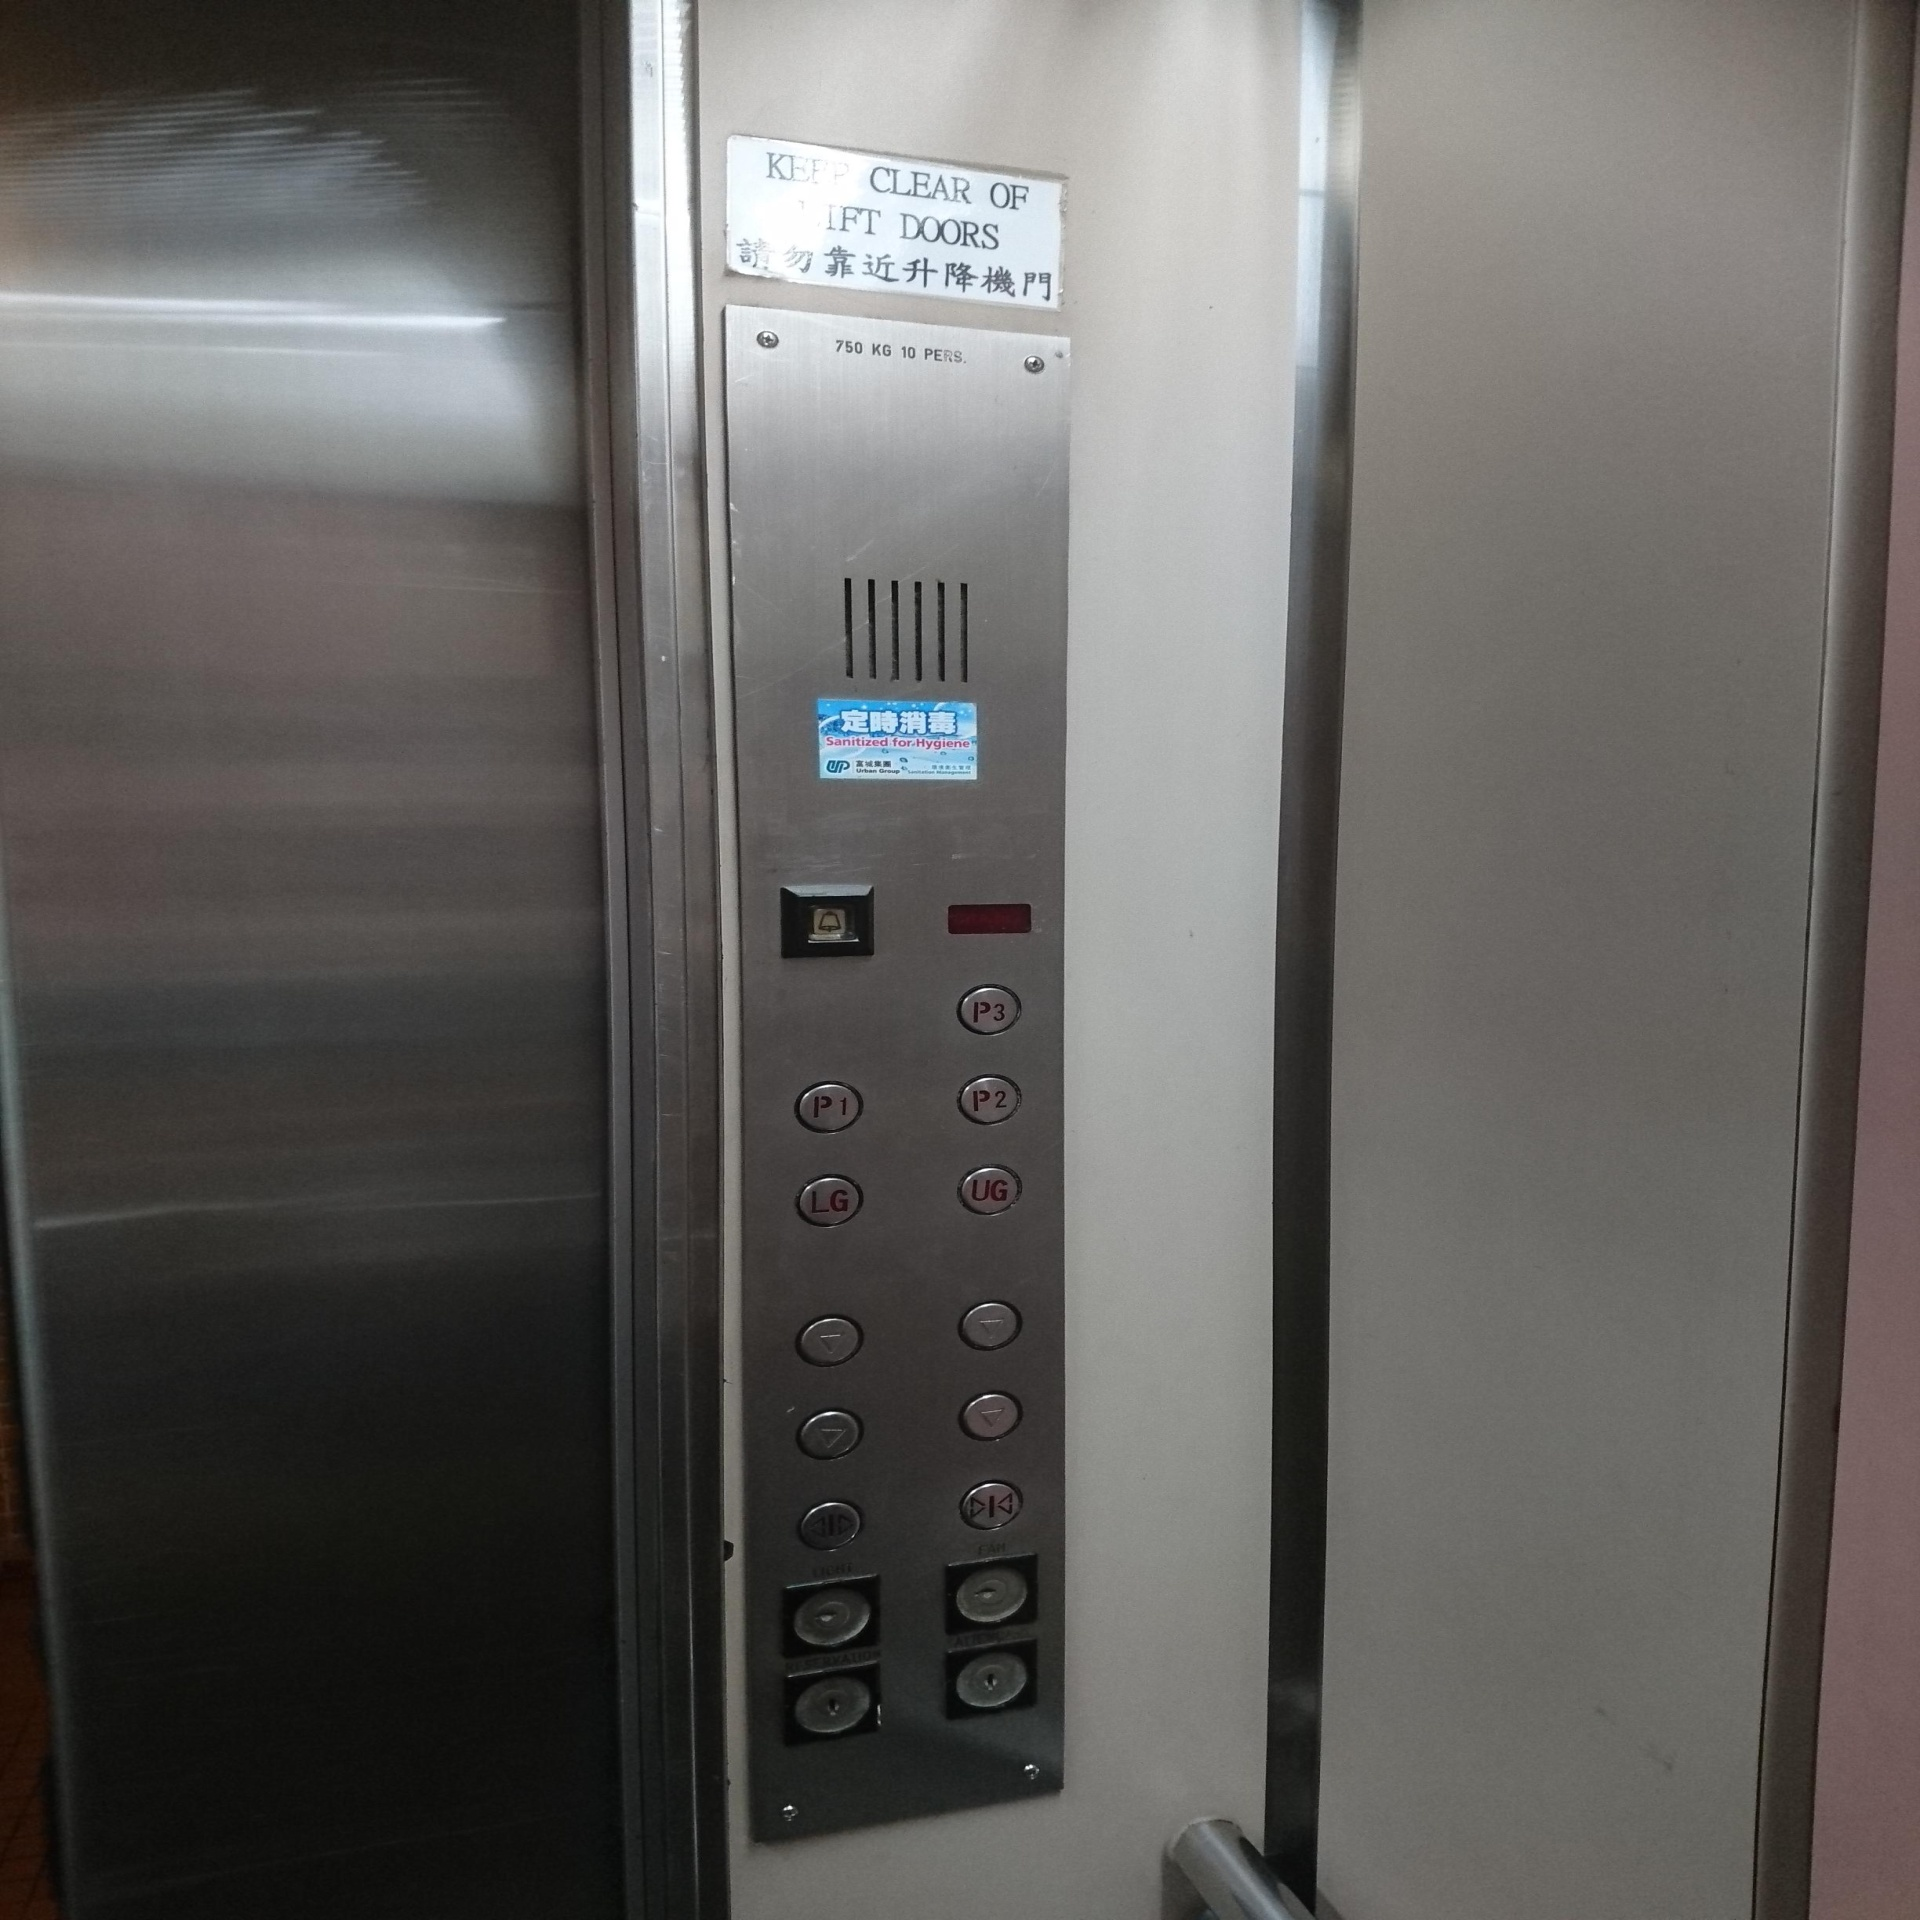LG: (796, 1173, 863, 1229)
P1: (796, 1080, 863, 1136)
P2: (956, 1073, 1023, 1129)
P3: (956, 983, 1025, 1037)
UG: (956, 1164, 1025, 1220)
alarm: (775, 881, 879, 962)
close: (956, 1479, 1023, 1533)
down: (958, 1385, 1027, 1445), (796, 1405, 863, 1465), (956, 1296, 1025, 1354), (796, 1313, 865, 1370)
keyhole: (784, 1662, 886, 1742), (779, 1574, 879, 1655), (939, 1642, 1041, 1721), (944, 1556, 1037, 1633)
open: (795, 1498, 862, 1554)
